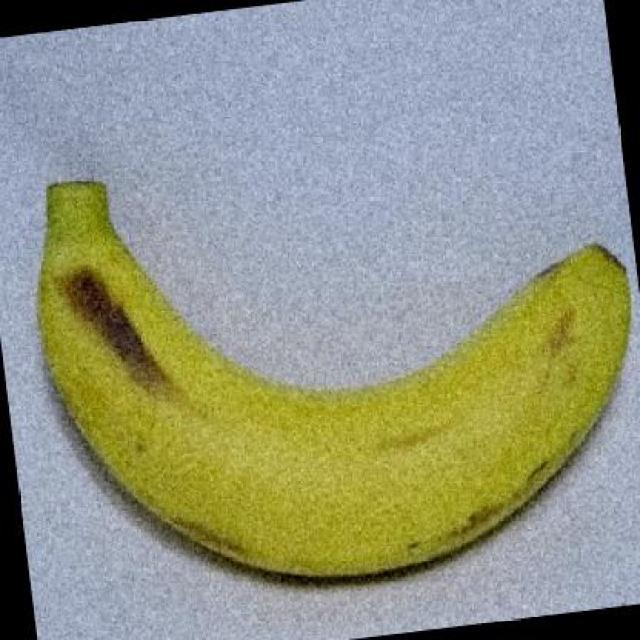ripe: (0, 164, 640, 601)
